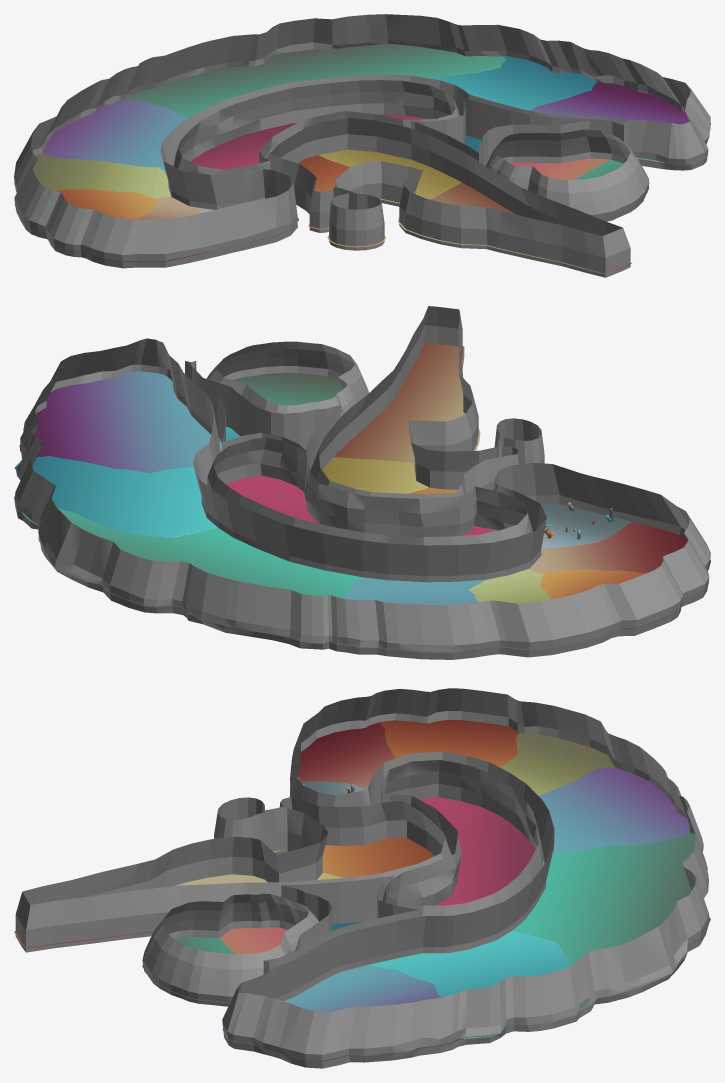
Rendered from Brain.FBX.
3 views of the same model, one above another, from view 1: azimuth 30°, elevation 25°; view 2: azimuth 150°, elevation 25°; view 3: azimuth 270°, elevation 25° (orthographic). The views are drawn at different scales.
Parts seen in each view (by area): view 1: colider5, Plan, colider1, colider2, colider4, colider3; view 2: colider5, Plan, colider2, colider1, colider4, colider3; view 3: Plan, colider5, colider1, colider2, colider4, colider3.
Boxes of the visible parts, bbox=[...] form: colider5: bbox=[14, 14, 710, 268]; Plan: bbox=[14, 43, 710, 274]; colider1: bbox=[267, 117, 630, 277]; colider2: bbox=[173, 80, 459, 174]; colider4: bbox=[486, 129, 649, 221]; colider3: bbox=[411, 97, 628, 166]; colider5: bbox=[14, 338, 710, 659]; Plan: bbox=[14, 342, 710, 652]; colider2: bbox=[207, 437, 532, 545]; colider1: bbox=[310, 306, 544, 498]; colider4: bbox=[206, 341, 369, 416]; colider3: bbox=[185, 361, 341, 470]; Plan: bbox=[14, 719, 710, 1061]; colider5: bbox=[222, 688, 709, 1068]; colider1: bbox=[15, 797, 451, 952]; colider2: bbox=[380, 760, 543, 916]; colider4: bbox=[142, 893, 318, 1006]; colider3: bbox=[263, 875, 419, 974].
Bounding box in the file's own units: 125 × 8.54 × 108.
